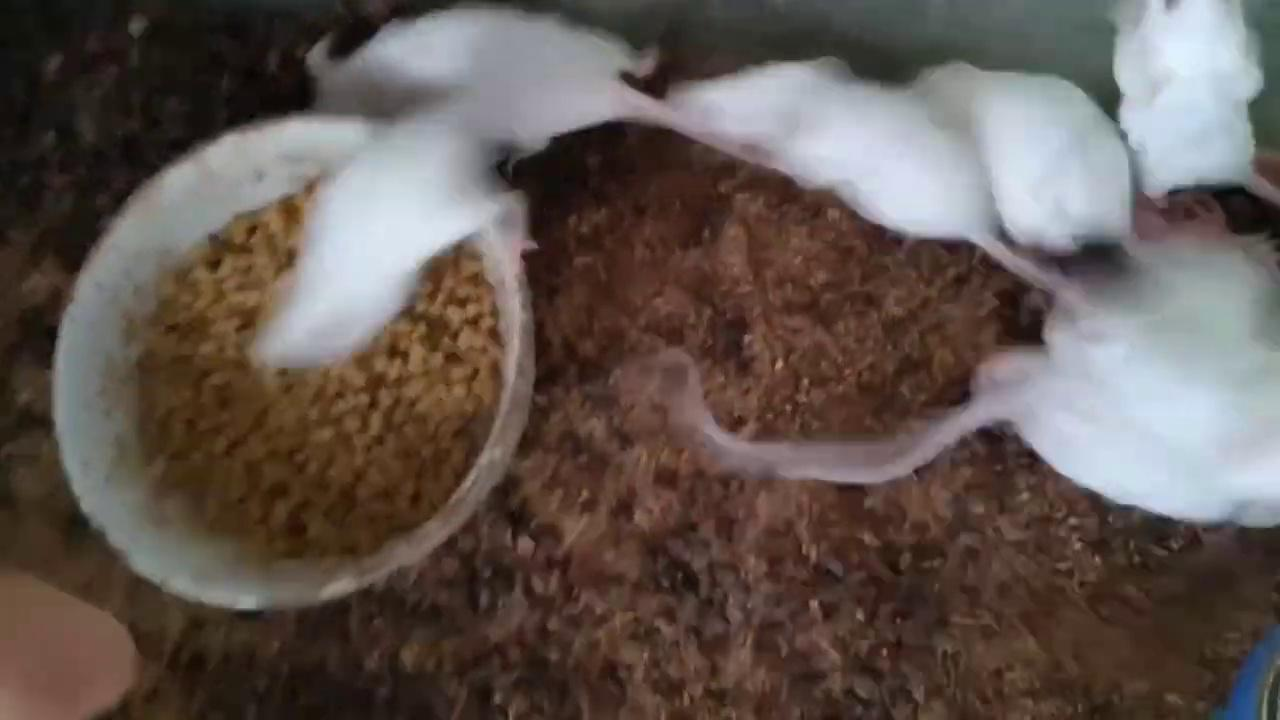rat: (245, 86, 524, 397), (665, 10, 981, 277), (966, 273, 1269, 511), (303, 3, 677, 141), (916, 36, 1142, 261), (1108, 0, 1260, 213)
